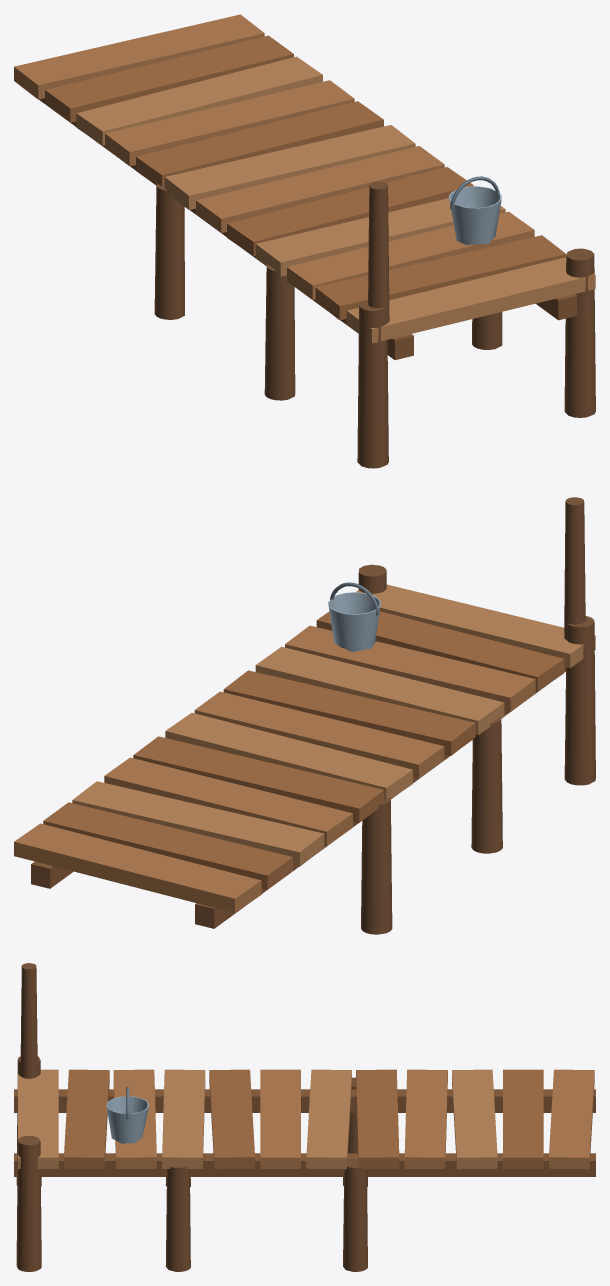
The model's file is dock.glb.
The picture shows the model from 3 angles, top to bottom: view 1: azimuth 30°, elevation 25°; view 2: azimuth 150°, elevation 25°; view 3: azimuth 270°, elevation 25°; orthographic projection. The views are drawn at different scales.
Visible parts, largest first — view 1: plank.011, plank.001, plank, plank.003, plank.005, plank.002, plank.006, plank.004, plank.010, plank.007, plank.009, plank.008 (+9 smaller); view 2: plank, plank.006, plank.002, plank.001, plank.007, plank.004, plank.003, plank.008, plank.005, plank.009, plank.011, plank.010 (+8 smaller); view 3: stringer.002, plank, plank.007, plank.002, plank.005, plank.010, plank.003, plank.004, plank.008, plank.006, plank.001, plank.011 (+8 smaller).
Part boxes in pixels (x1,y1,x2,y2): plank.011: [346, 257, 595, 343]; plank.001: [45, 35, 293, 122]; plank: [14, 14, 264, 99]; plank.003: [105, 80, 354, 166]; plank.005: [164, 125, 415, 209]; plank.002: [76, 56, 322, 145]; plank.006: [196, 146, 444, 232]; plank.004: [136, 101, 383, 186]; plank.010: [315, 235, 566, 320]; plank.007: [227, 167, 473, 256]; plank.009: [287, 211, 534, 299]; plank.008: [255, 198, 505, 276]; plank: [14, 823, 261, 912]; plank.006: [194, 691, 444, 778]; plank.002: [72, 781, 324, 866]; plank.001: [43, 802, 292, 889]; plank.007: [223, 670, 475, 755]; plank.004: [133, 736, 384, 822]; plank.003: [104, 757, 352, 845]; plank.008: [255, 646, 504, 735]; plank.005: [165, 712, 412, 799]; plank.009: [285, 625, 535, 711]; plank.011: [356, 584, 595, 668]; plank.010: [316, 611, 564, 691]; stringer.002: [14, 1153, 595, 1176]; plank: [549, 1069, 594, 1169]; plank.007: [209, 1069, 254, 1169]; plank.002: [452, 1069, 497, 1169]; plank.005: [306, 1069, 351, 1169]; plank.010: [64, 1069, 109, 1169]; plank.003: [404, 1069, 447, 1168]; plank.004: [356, 1069, 399, 1168]; plank.008: [162, 1069, 205, 1168]; plank.006: [260, 1069, 300, 1168]; plank.001: [503, 1069, 543, 1168]; plank.011: [18, 1069, 58, 1168].
Size of the model in its own units: 0.8591 by 0.9651 by 2.3.
